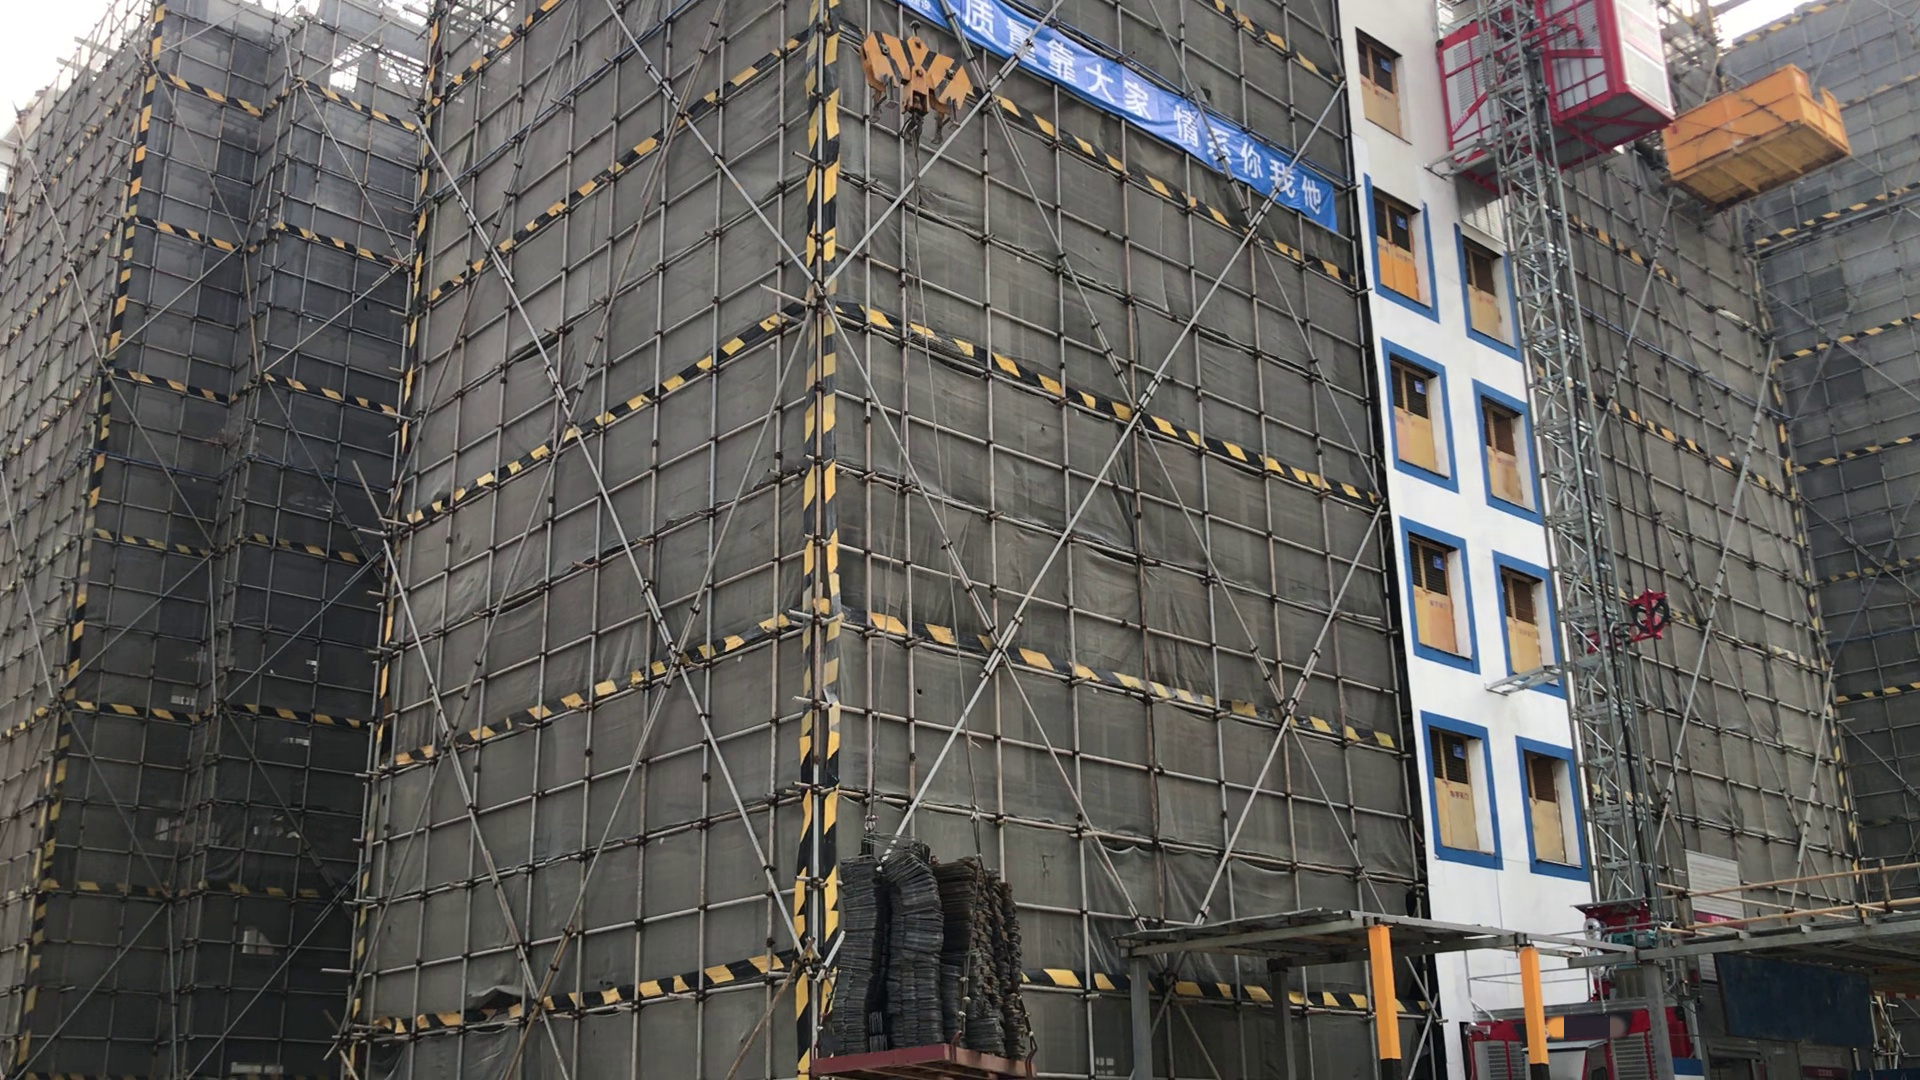hook: (866, 25, 975, 145)
slogan: (895, 1, 1341, 233)
